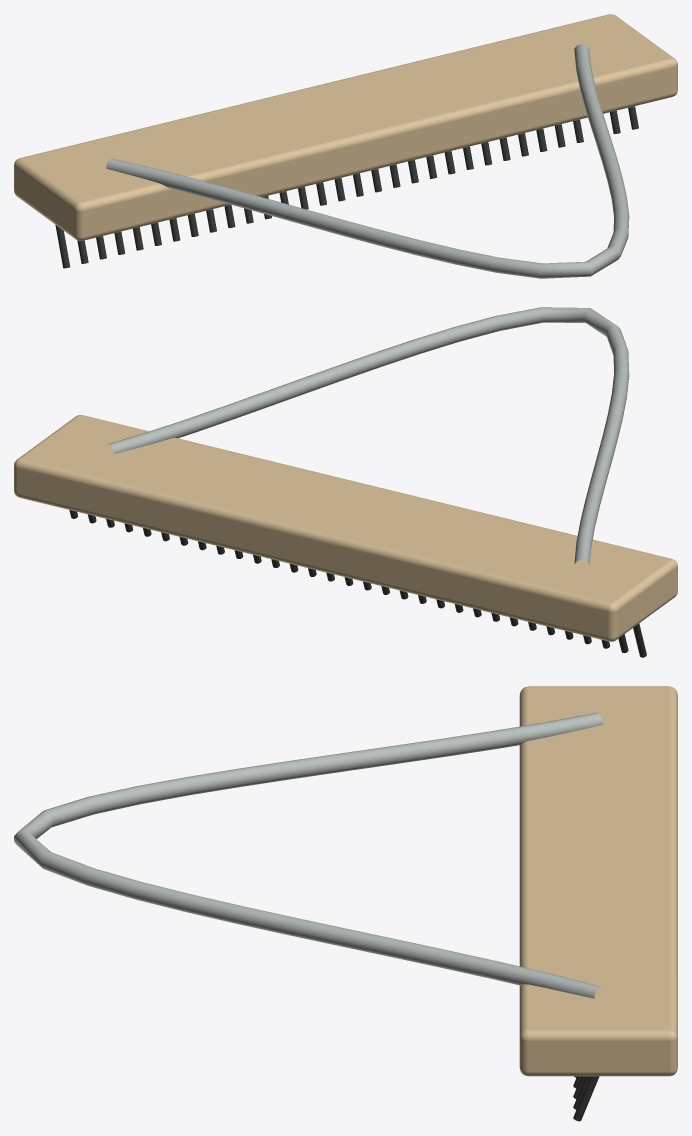
The model's file is cricket-ground-and-pavilion-pitch-brush-drag-c733c5ef__31342.glb.
3 views of the same model, one above another, from view 1: azimuth 30°, elevation 25°; view 2: azimuth 150°, elevation 25°; view 3: azimuth 270°, elevation 25° (orthographic). The views are drawn at different scales.
Visible parts, largest first — view 1: pitch-brush-drag; view 2: pitch-brush-drag; view 3: pitch-brush-drag.
Boxes of the visible parts, x1,y1,x2,y2 form: pitch-brush-drag: [14, 14, 677, 278]; pitch-brush-drag: [14, 307, 677, 657]; pitch-brush-drag: [14, 686, 677, 1121].
Bounding box in the file's own units: 1.15 × 0.1951 × 0.9224.
